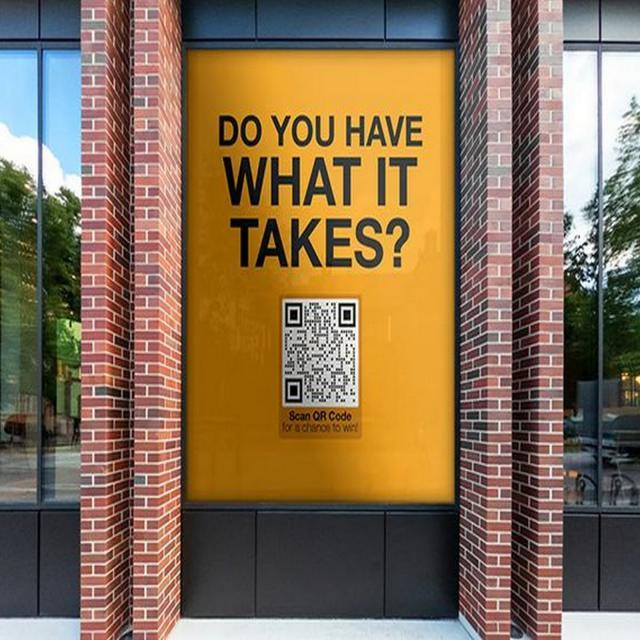qr_code: (284, 302, 356, 403)
